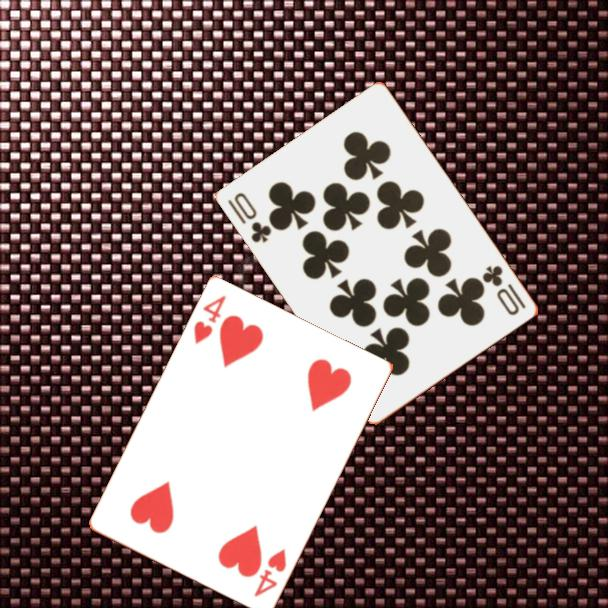c10: (479, 262, 530, 319), (224, 189, 275, 246)
h04: (190, 292, 229, 348), (251, 545, 289, 600)
